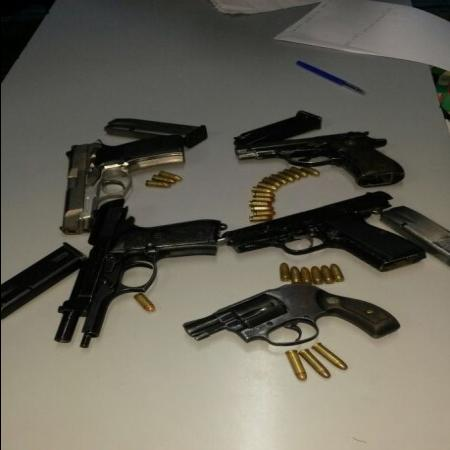Pistol: (50, 211, 226, 346), (212, 190, 422, 268), (179, 282, 396, 348), (55, 130, 183, 237), (233, 130, 406, 186)
